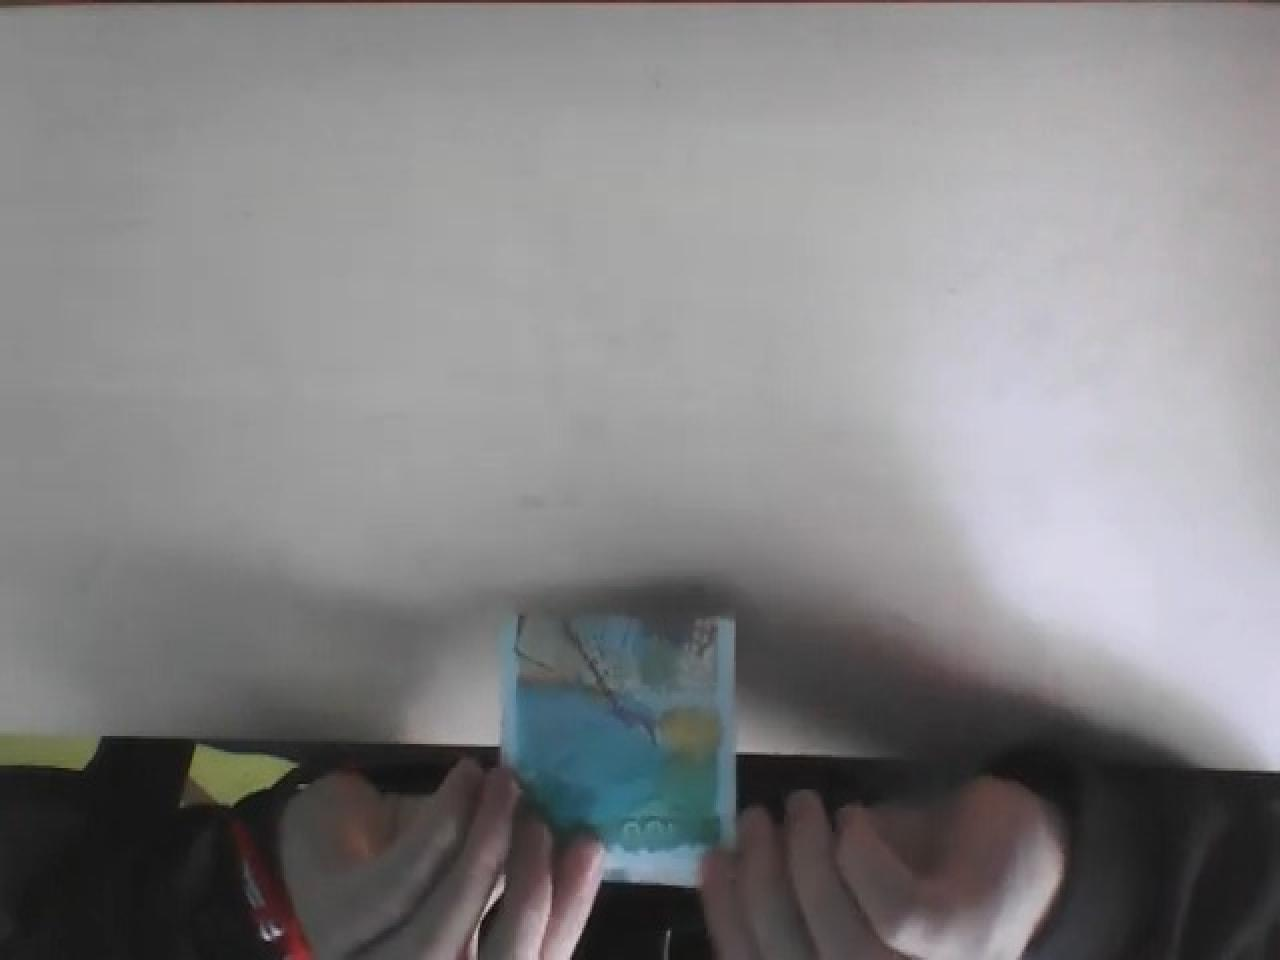100leva: (498, 608, 736, 885)
